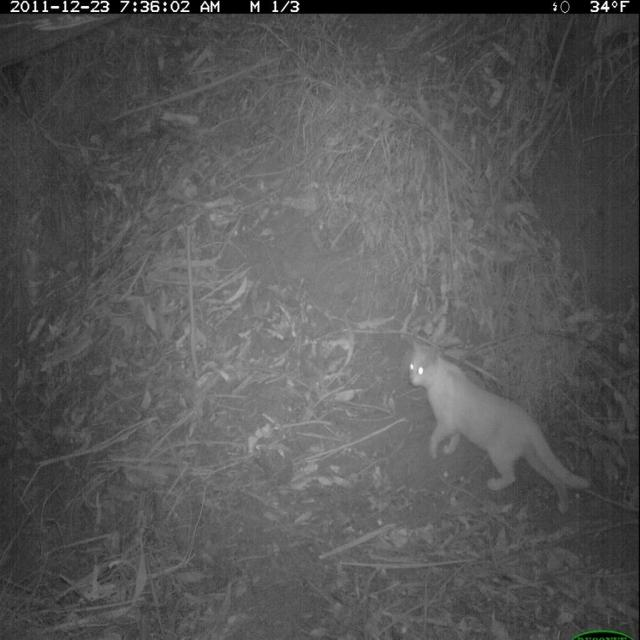cat: (405, 330, 595, 523)
